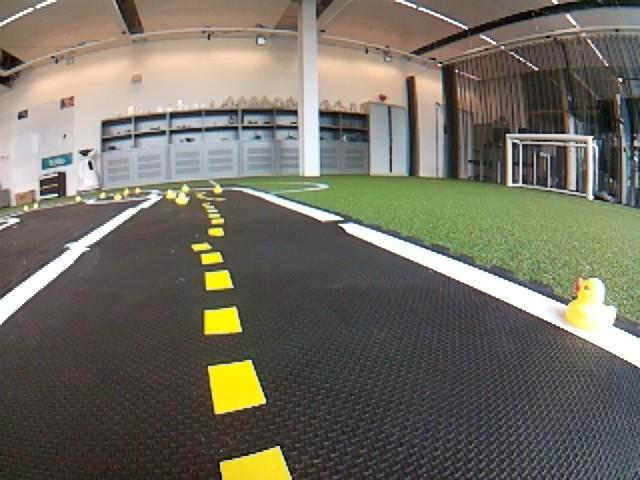Duckies: (563, 276, 617, 332), (175, 193, 189, 206), (212, 184, 224, 194), (165, 190, 176, 200), (180, 184, 190, 192), (114, 193, 122, 202), (100, 191, 107, 199), (33, 202, 40, 209), (134, 188, 141, 194), (22, 205, 29, 211), (75, 195, 81, 202), (124, 188, 131, 194)
